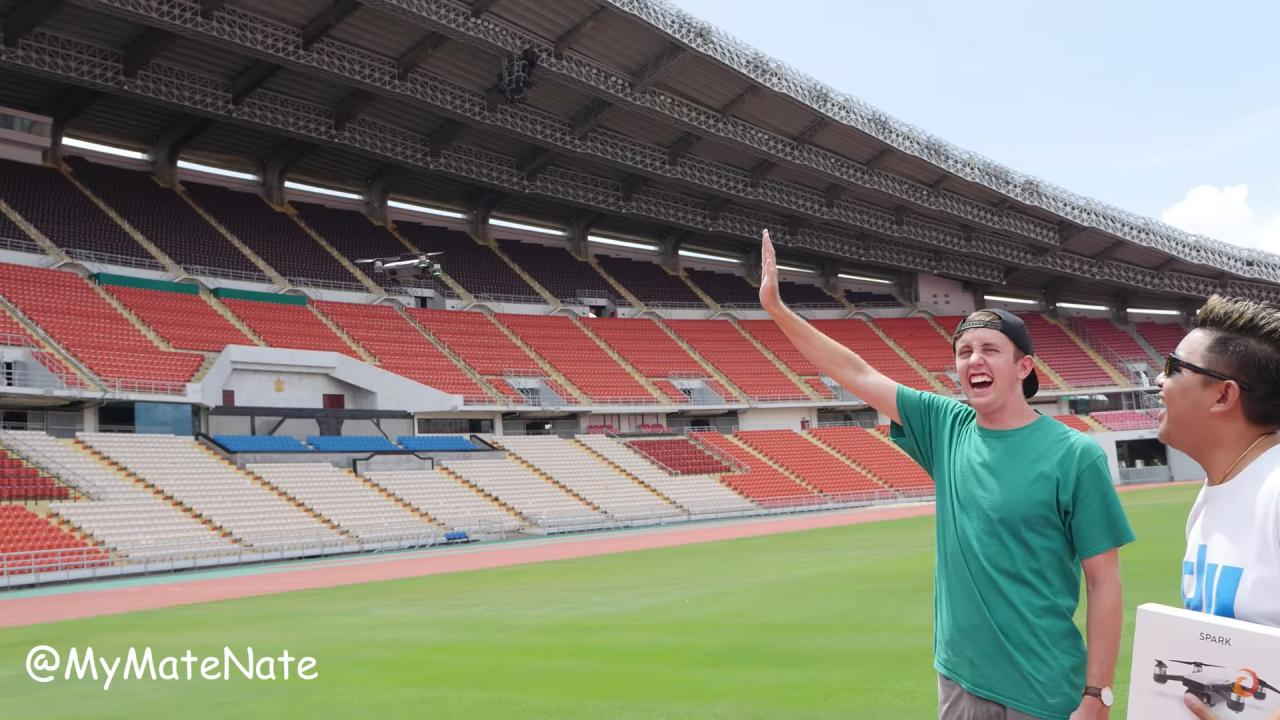Drone: (342, 233, 460, 297)
